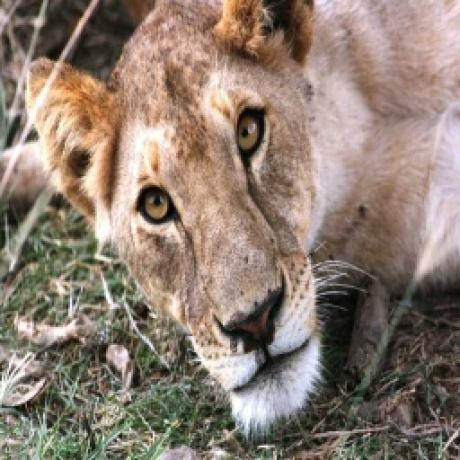Lion: (25, 0, 458, 438)
